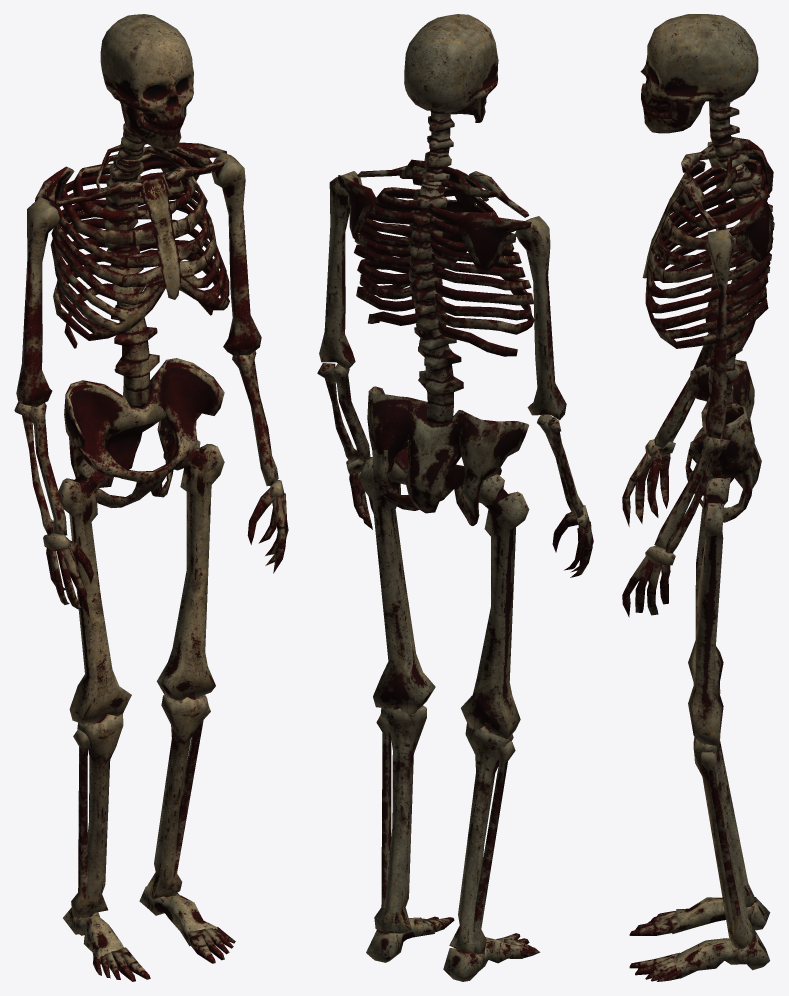
The model's file is skeleton.fbx.
The picture shows the model from 3 angles, left to right: view 1: azimuth 30°, elevation 25°; view 2: azimuth 150°, elevation 25°; view 3: azimuth 270°, elevation 25°; orthographic projection.
Parts seen in each view (by area): view 1: chest, pelvis, skull, L_upperleg, R_upperleg, R_lowerleg, L_lowerleg, spine, R_upperarm, L_upperarm, R_lowerarm, L_foot (+6 smaller); view 2: chest, pelvis, R_upperleg, L_upperleg, skull, L_lowerleg, R_lowerleg, spine, R_upperarm, L_upperarm, neck, L_lowerarm (+5 smaller); view 3: chest, skull, L_upperleg, pelvis, L_lowerleg, L_foot, L_upperarm, L_lowerarm, R_foot, R_hand, neck, spine (+6 smaller).
Part boxes in pixels (x1=…): chest: x1=35, y1=142, x2=229, y2=348; pelvis: x1=64, y1=358, x2=224, y2=507; skull: x1=100, y1=14, x2=193, y2=130; L_upperleg: x1=156, y1=436, x2=224, y2=700; R_upperleg: x1=58, y1=459, x2=131, y2=723; R_lowerleg: x1=71, y1=713, x2=123, y2=918; L_lowerleg: x1=145, y1=694, x2=210, y2=899; spine: x1=104, y1=156, x2=159, y2=407; R_upperarm: x1=16, y1=197, x2=59, y2=406; L_upperarm: x1=211, y1=153, x2=261, y2=355; R_lowerarm: x1=14, y1=402, x2=67, y2=535; L_foot: x1=139, y1=886, x2=235, y2=963; chest: x1=338, y1=160, x2=534, y2=356; pelvis: x1=367, y1=386, x2=529, y2=525; R_upperleg: x1=461, y1=474, x2=529, y2=738; L_upperleg: x1=359, y1=448, x2=435, y2=713; skull: x1=404, y1=14, x2=498, y2=112; L_lowerleg: x1=374, y1=705, x2=426, y2=933; R_lowerleg: x1=449, y1=723, x2=515, y2=954; spine: x1=408, y1=178, x2=463, y2=426; R_upperarm: x1=515, y1=216, x2=566, y2=420; L_upperarm: x1=319, y1=171, x2=362, y2=369; neck: x1=399, y1=110, x2=497, y2=198; L_lowerarm: x1=317, y1=363, x2=370, y2=462; chest: x1=642, y1=137, x2=773, y2=367; skull: x1=640, y1=14, x2=758, y2=112; L_upperleg: x1=688, y1=477, x2=730, y2=745; pelvis: x1=685, y1=359, x2=761, y2=522; L_lowerleg: x1=693, y1=735, x2=756, y2=949; L_foot: x1=629, y1=931, x2=769, y2=981; L_upperarm: x1=705, y1=228, x2=735, y2=438; L_lowerarm: x1=654, y1=433, x2=730, y2=553; R_foot: x1=629, y1=897, x2=770, y2=935; R_hand: x1=622, y1=439, x2=675, y2=526; neck: x1=699, y1=101, x2=749, y2=203; spine: x1=708, y1=163, x2=774, y2=402.
Size of the model in its own units: 50.14 by 184 by 27.2.
